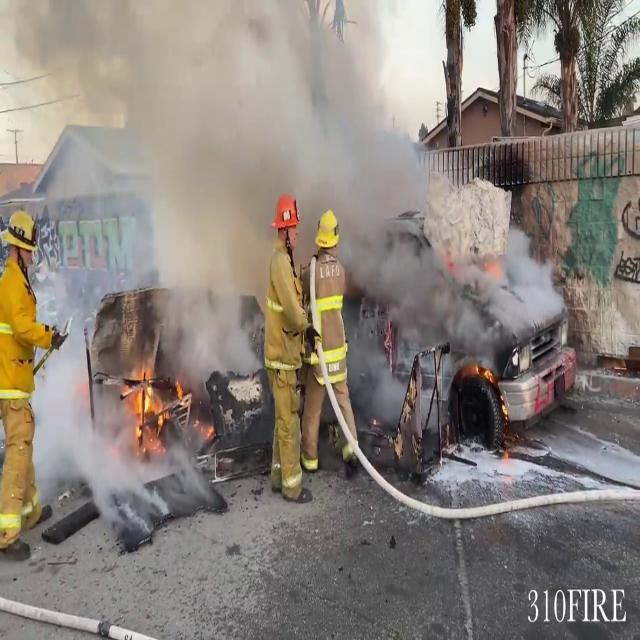Fire: (124, 351, 190, 453), (124, 353, 170, 451)
Smoke: (13, 0, 564, 372)
